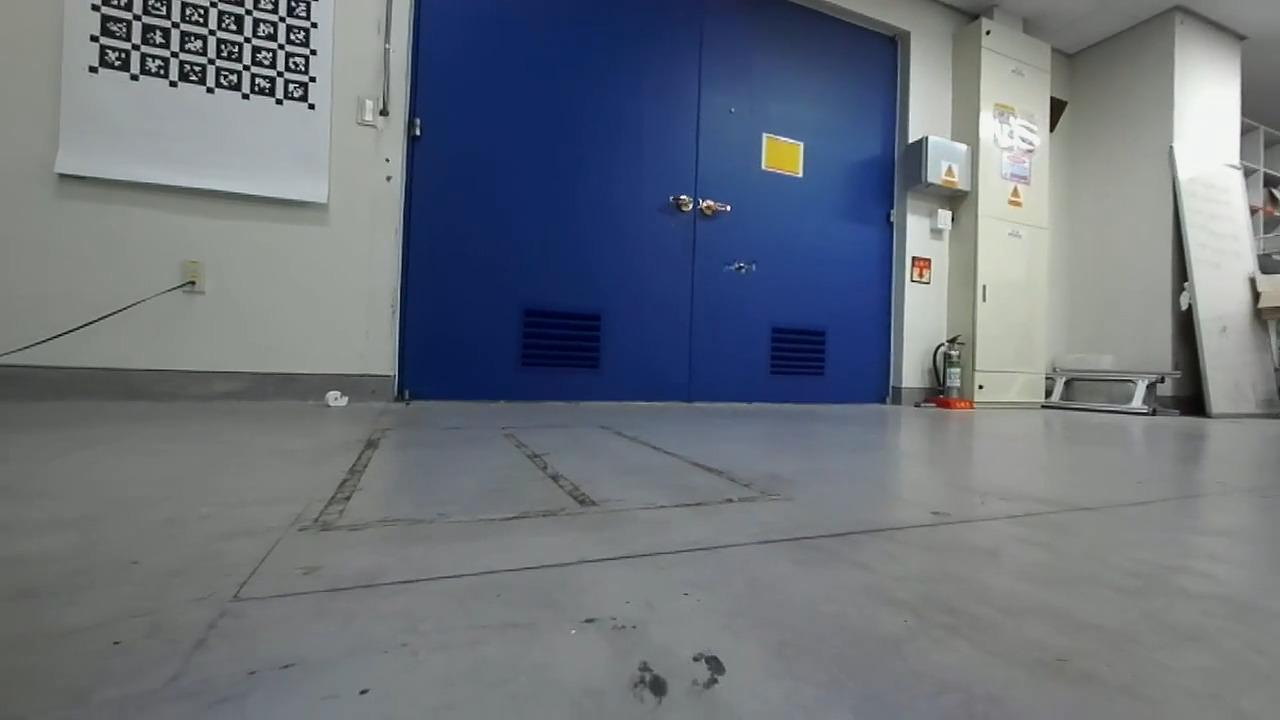crazyflie: (717, 254, 763, 278)
